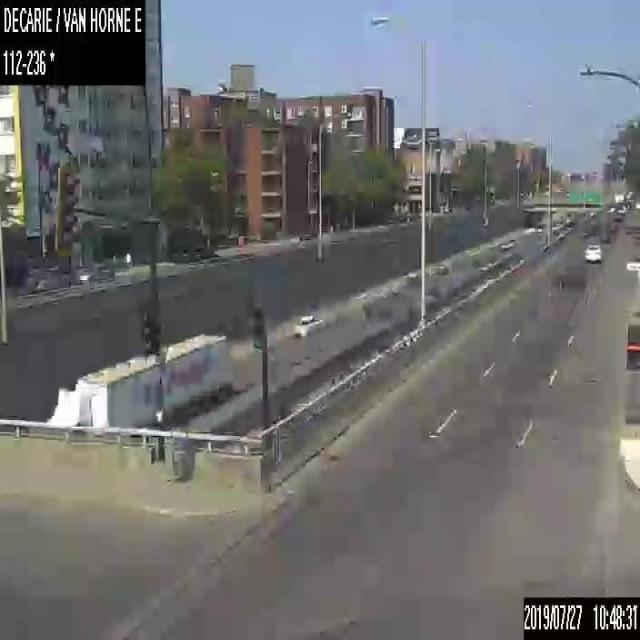construction: (239, 235, 243, 246)
vehicle: (46, 329, 234, 426), (74, 261, 111, 283), (30, 271, 69, 291), (293, 312, 322, 336), (584, 241, 601, 260)
